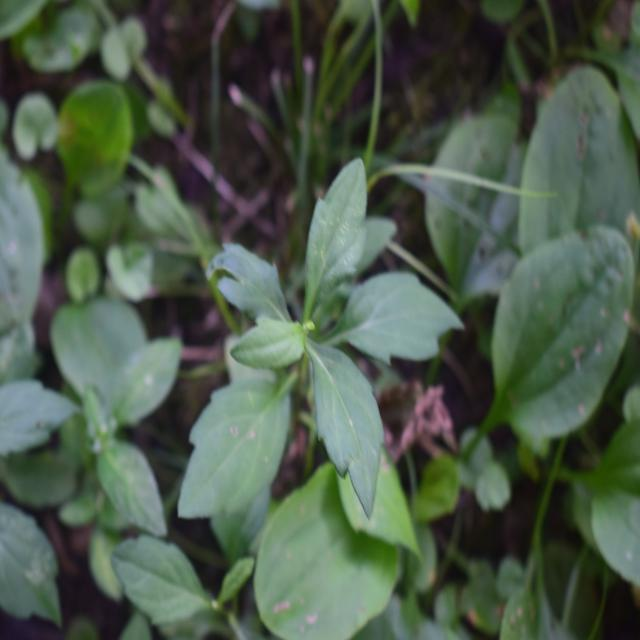Indian aster: (184, 166, 416, 508)
